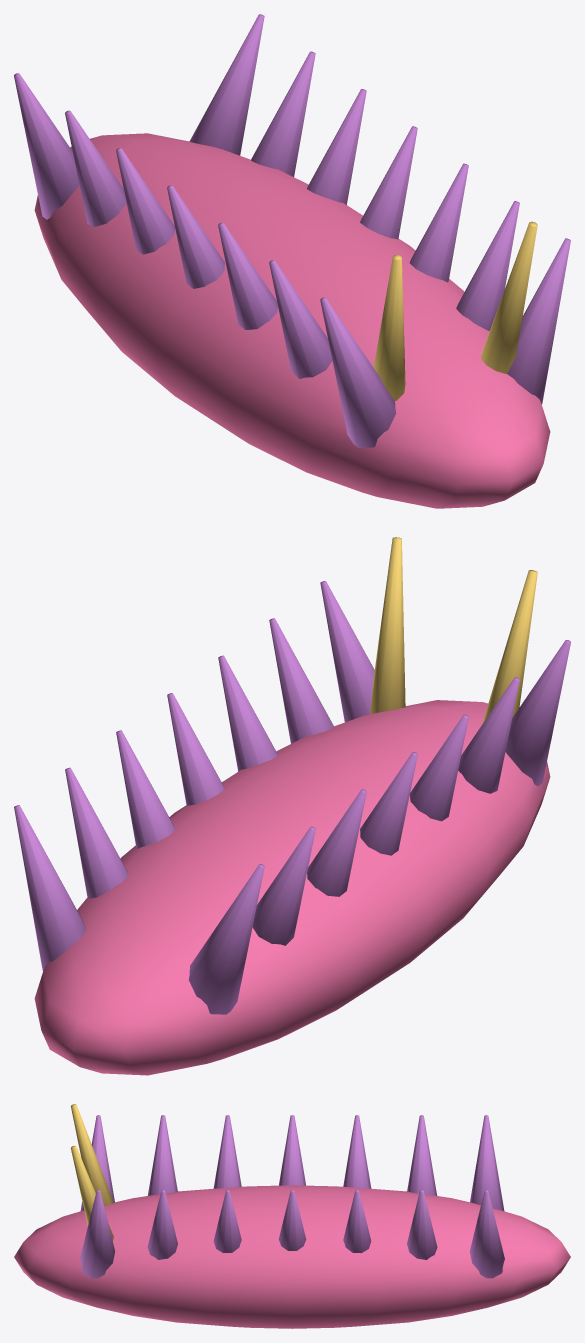
File: underwater-reef-worlds-nudibranch-e11ba8aa__7032.glb
The picture shows the model from 3 angles, top to bottom: view 1: azimuth 30°, elevation 25°; view 2: azimuth 150°, elevation 25°; view 3: azimuth 270°, elevation 25°; orthographic projection. The views are drawn at different scales.
Visible parts, largest first — view 1: nudibranch; view 2: nudibranch; view 3: nudibranch.
Boxes of the visible parts, x1,y1,x2,y2 form: nudibranch: (14, 14, 570, 508); nudibranch: (14, 537, 570, 1075); nudibranch: (14, 1104, 570, 1328).
Bounding box in the file's own units: 0.2 × 0.2108 × 0.56.
